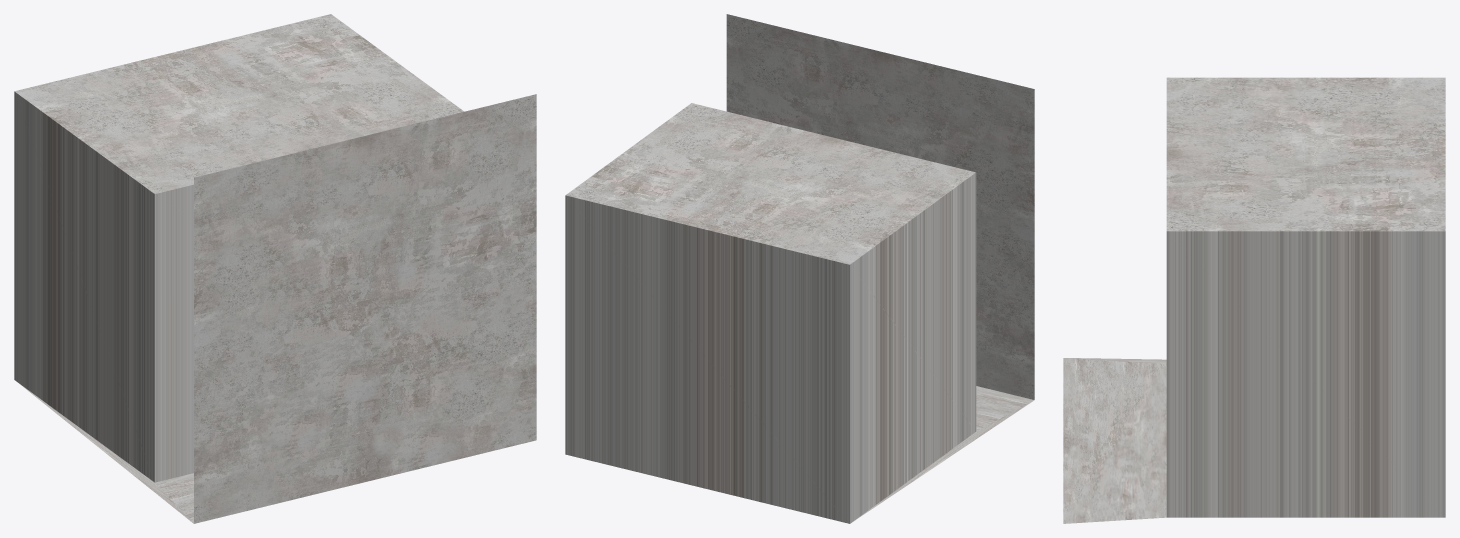
The picture shows the model from 3 angles, left to right: view 1: azimuth 30°, elevation 25°; view 2: azimuth 150°, elevation 25°; view 3: azimuth 270°, elevation 25°; orthographic projection. The views are drawn at different scales.
Size of the model in its own units: 5.48 by 5.29 by 5.33.
Materials: 1 (1 with a texture image).
